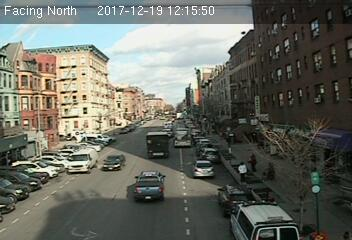car: (219, 184, 252, 213), (132, 170, 162, 201), (102, 151, 123, 171), (191, 160, 214, 178), (201, 147, 219, 162)
pedestrian: (238, 160, 249, 183), (264, 161, 273, 182)
police: (228, 198, 305, 239)
truck: (67, 149, 97, 172), (174, 129, 192, 148)
ups: (145, 131, 170, 159)
